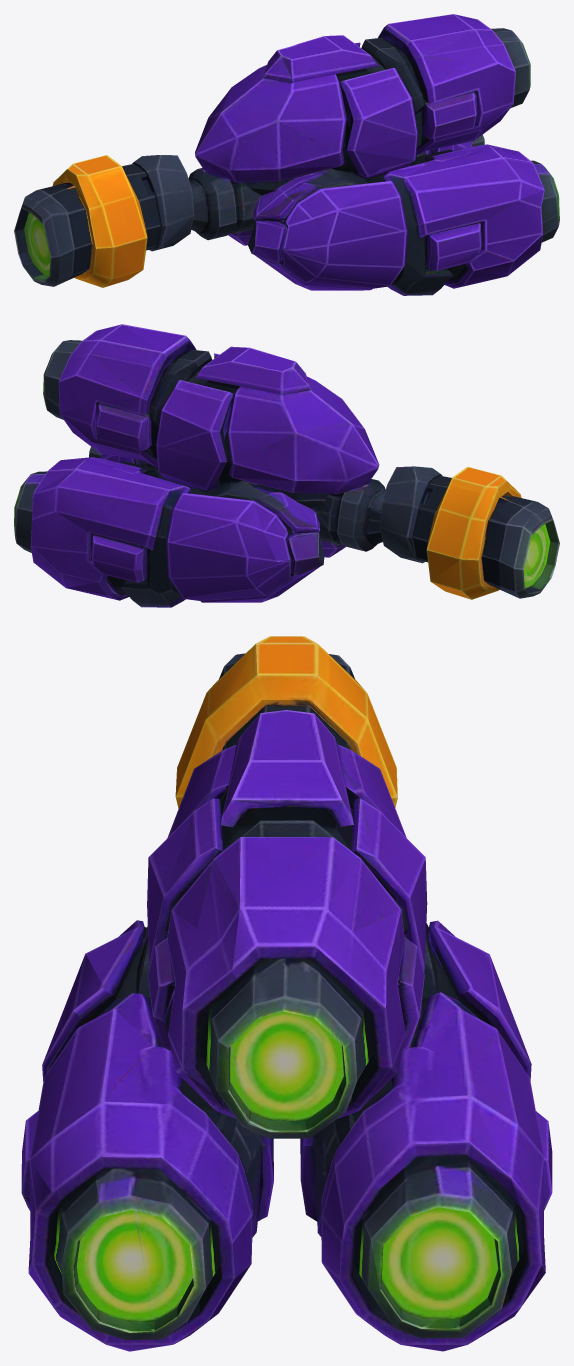
File: 30dfc5c9-de96-48f9-87f5-669fb7de5155_part_4_optimized.glb
The picture shows the model from 3 angles, top to bottom: view 1: azimuth 30°, elevation 25°; view 2: azimuth 150°, elevation 25°; view 3: azimuth 270°, elevation 25°; orthographic projection. The views are drawn at different scales.
Parts seen in each view (by area): view 1: output_unwrapped; view 2: output_unwrapped; view 3: output_unwrapped.
Boxes of the visible parts, x1=… form: output_unwrapped: x1=14, y1=14, x2=559, y2=295; output_unwrapped: x1=14, y1=324, x2=559, y2=607; output_unwrapped: x1=21, y1=636, x2=552, y2=1351.
Size of the model in its own units: 1.9 by 0.8866 by 0.9032.
Materials: 1 (1 with a texture image).
